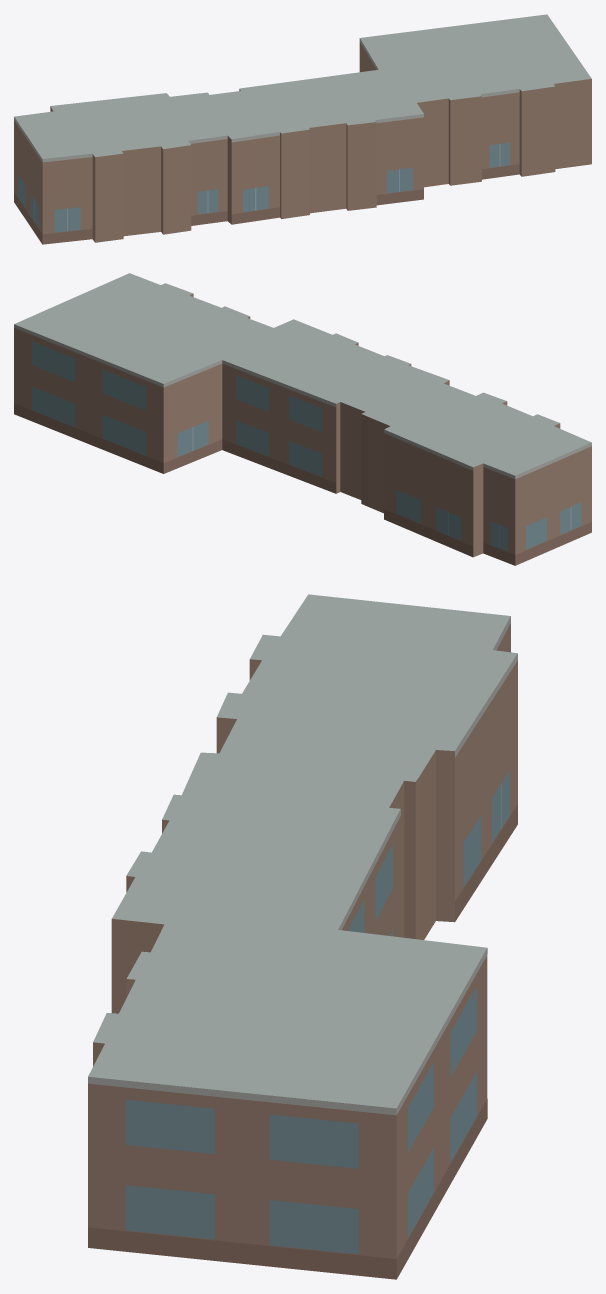
File: survey-upis-32872400.glb
3 views of the same model, one above another, from view 1: azimuth 30°, elevation 25°; view 2: azimuth 150°, elevation 25°; view 3: azimuth 270°, elevation 25° (orthographic). The views are drawn at different scales.
Visible parts, largest first — view 1: survey-upis-32872400.tmp; view 2: survey-upis-32872400.tmp; view 3: survey-upis-32872400.tmp.
Part boxes in pixels (bbox=[...]): survey-upis-32872400.tmp: bbox=[14, 14, 591, 244]; survey-upis-32872400.tmp: bbox=[14, 273, 591, 565]; survey-upis-32872400.tmp: bbox=[88, 594, 517, 1279].
Bounding box in the file's own units: 39.34 × 6.1 × 13.9.
